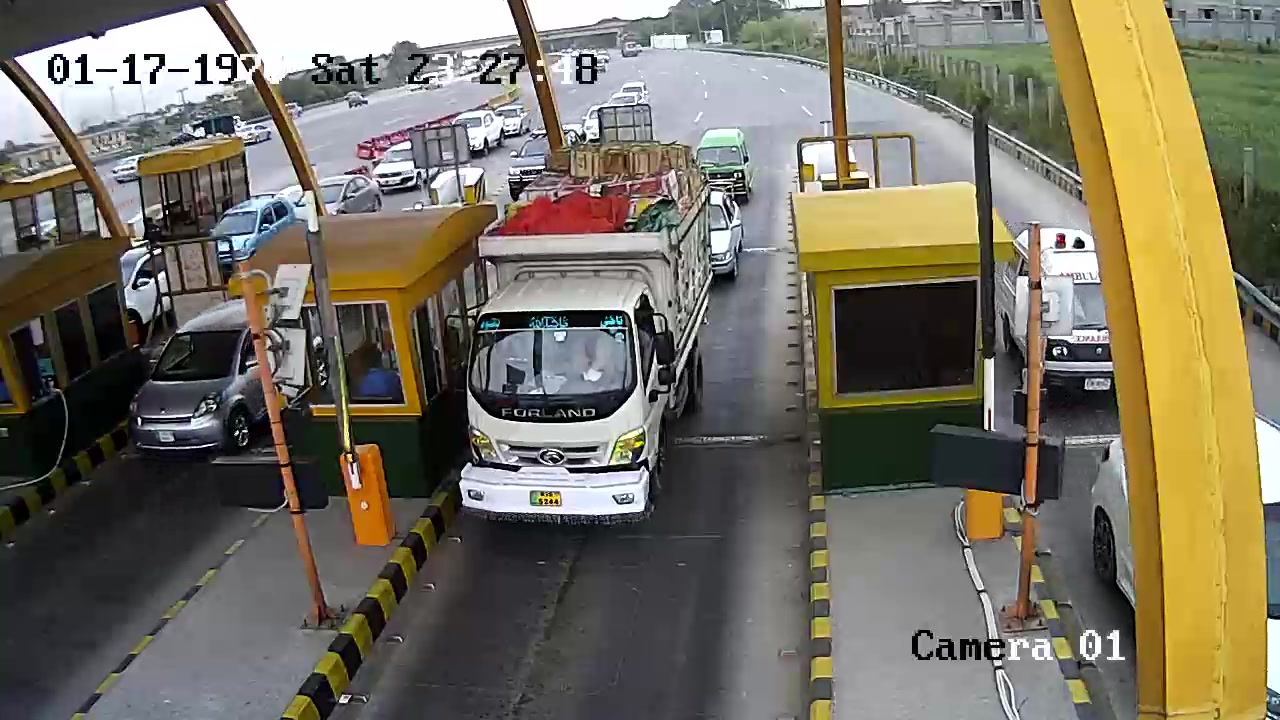F5: (453, 115, 718, 529)
